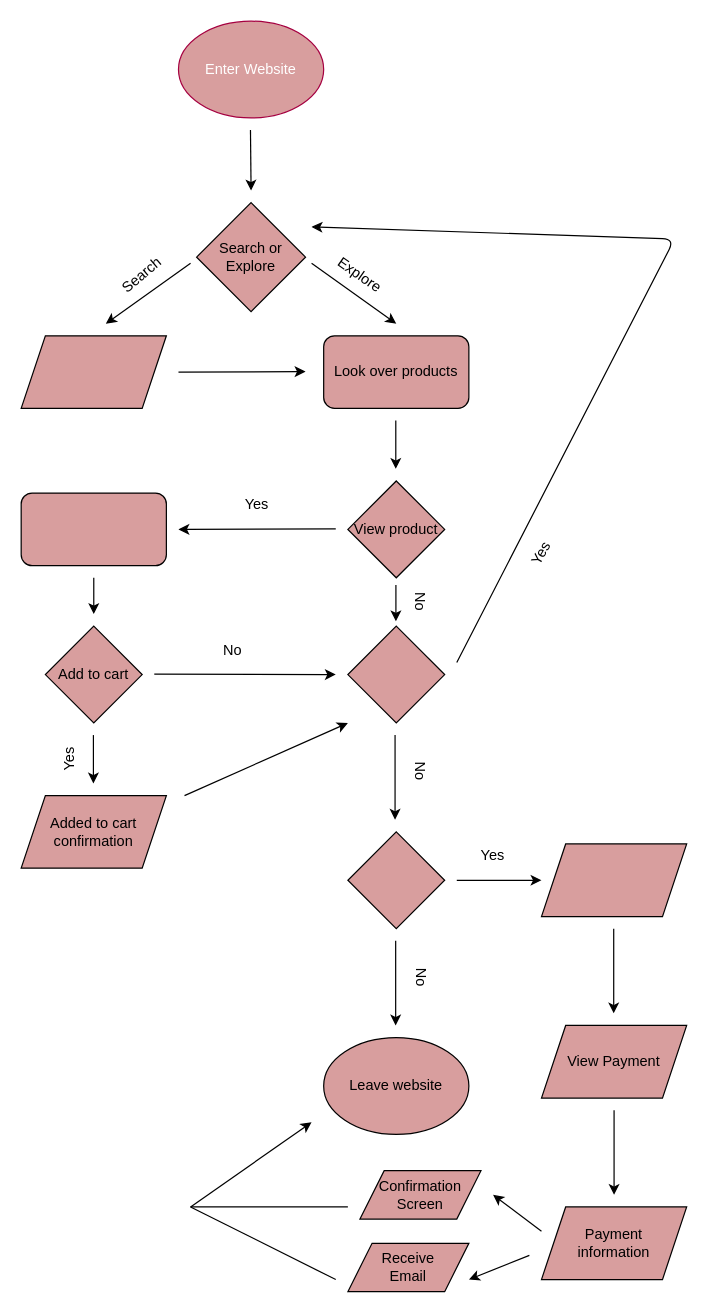
Image size: 708x1313. Some labels were removed from this diagram. Here are the shapes that lost their labels. From the top down, the centre of each, then its label:
the point at 93,371: Input Search
the point at 93,529: Product webpage opens
the point at 396,674: Continue shopping
the point at 396,880: Checkout
the point at 613,880: View Cart
